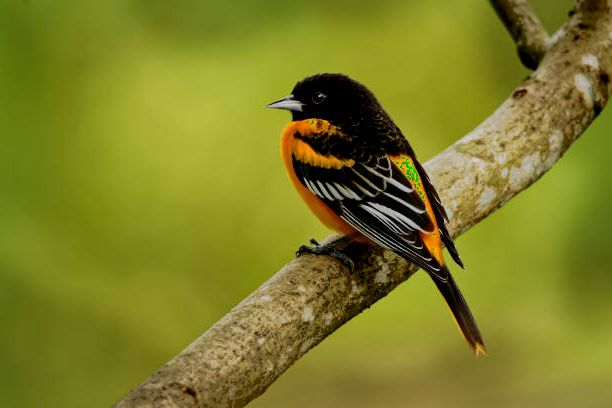Bird: (261, 67, 492, 361)
